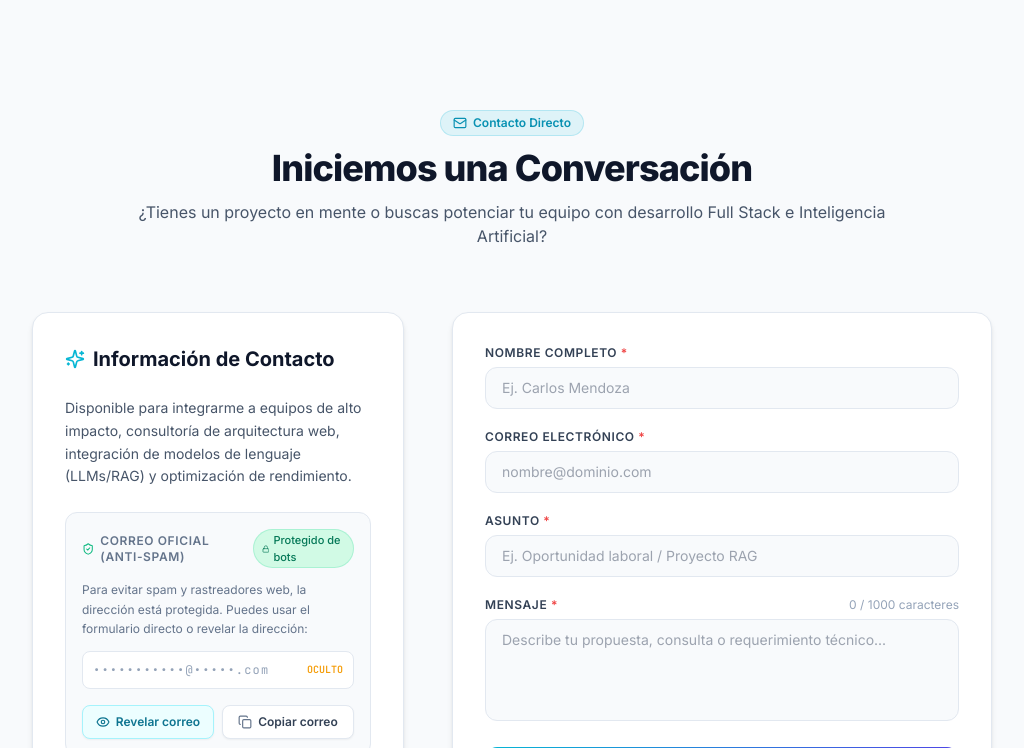
Test case: Functional Contact Component (Integration Flow) › successfully submits valid form, resets inputs, and displays dismissible success message
Type "Patricia Silva" into the field with test id "contact-name-input" at (722, 388), box [485, 367, 959, 409]
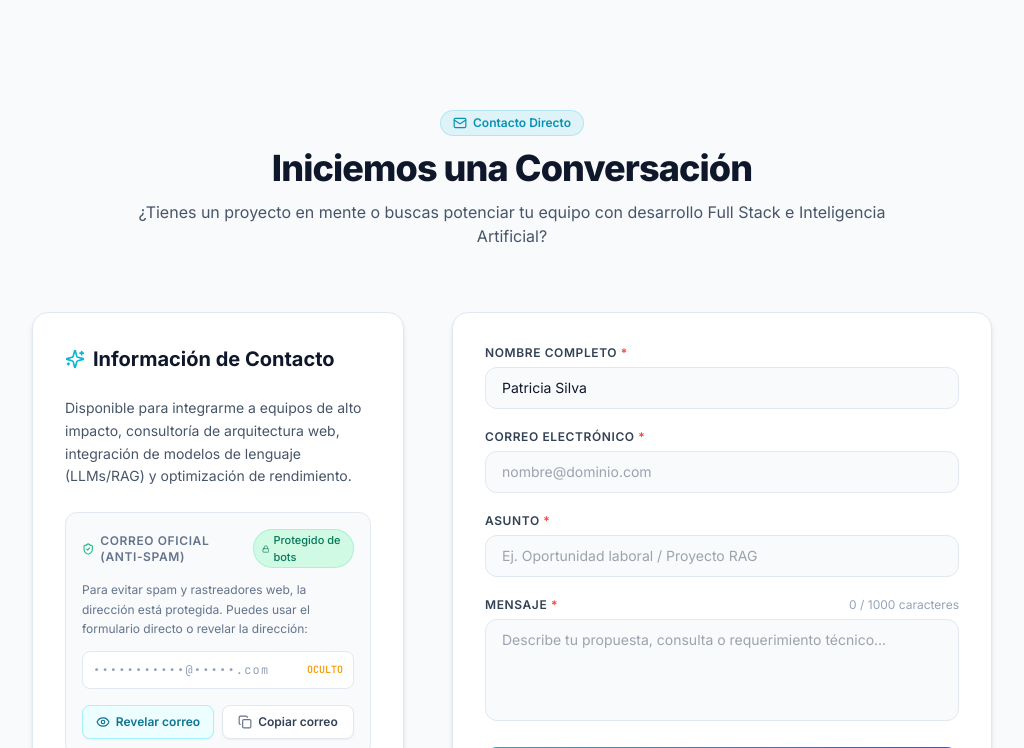
Type "patricia@empresa.com" into the field with test id "contact-email-input" at (722, 472), box [485, 451, 959, 493]
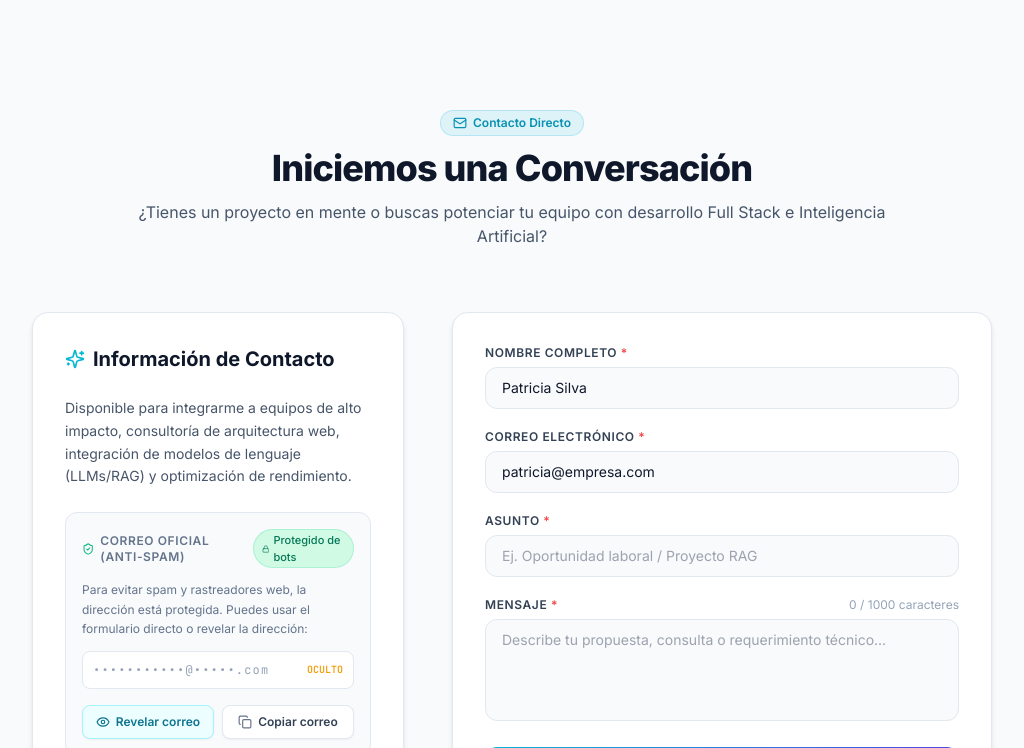
Type "Consultoría en MLOps & RAG" into the field with test id "contact-subject-input" at (722, 556), box [485, 535, 959, 577]
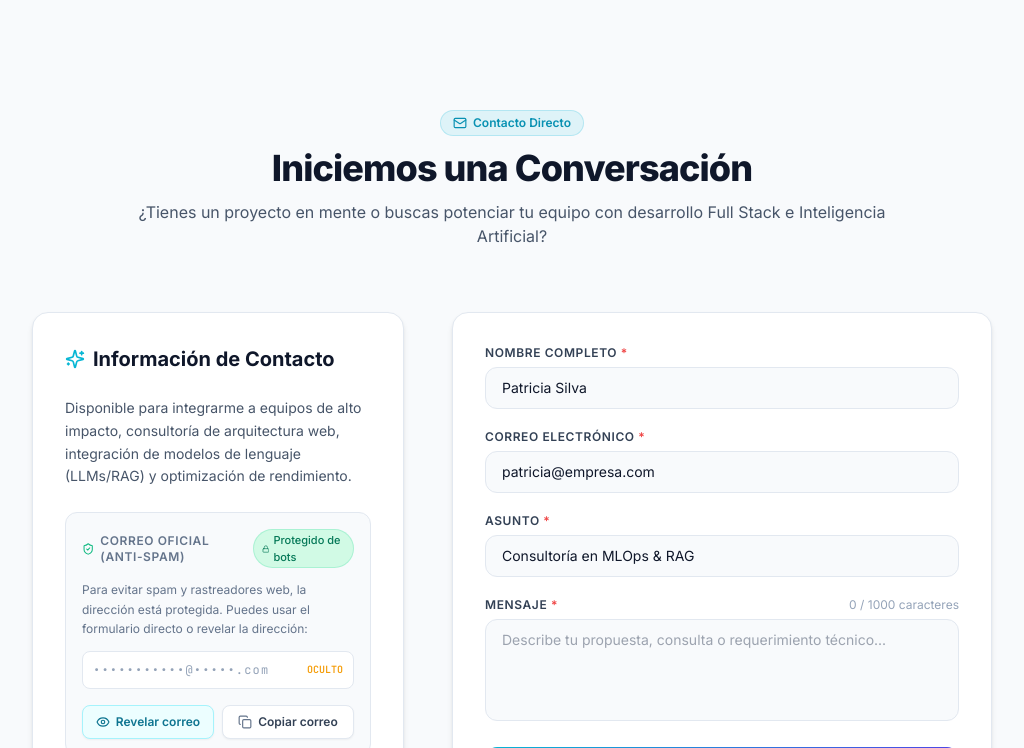
Type "Nos interesa agendar una reunión para discutir la implementación de un motor de búsqueda semántica." into the text box with test id "contact-message-input" at (722, 670), box [485, 619, 959, 721]
(page scrolled)
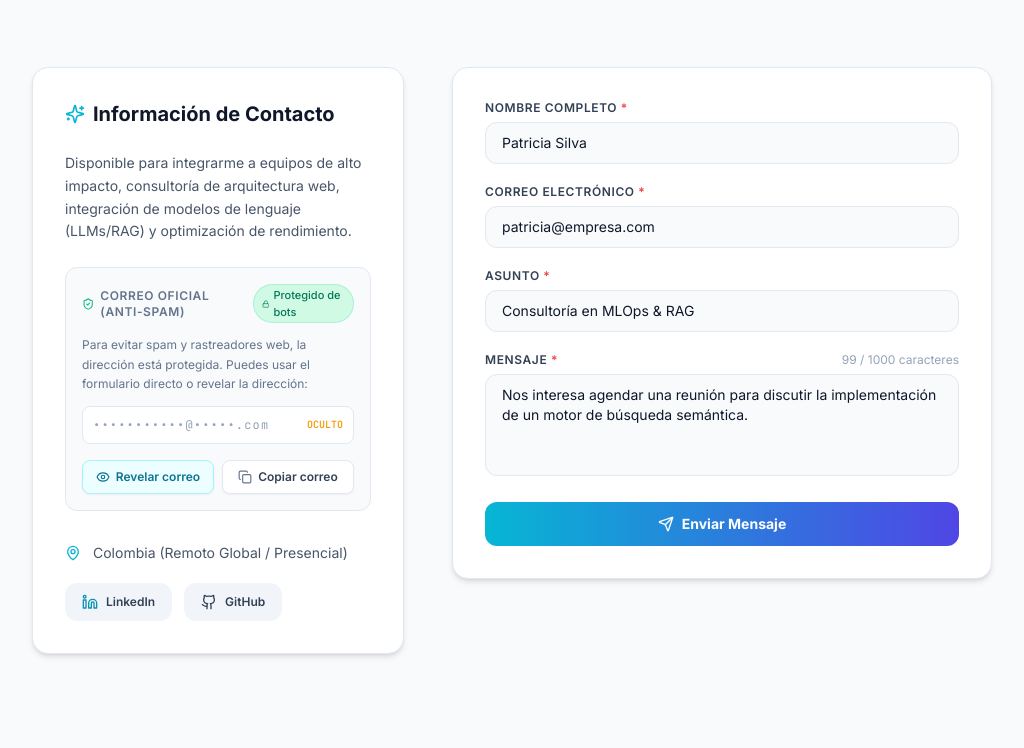
Click the button with test id "contact-submit-button" at (722, 524), box [485, 502, 959, 546]
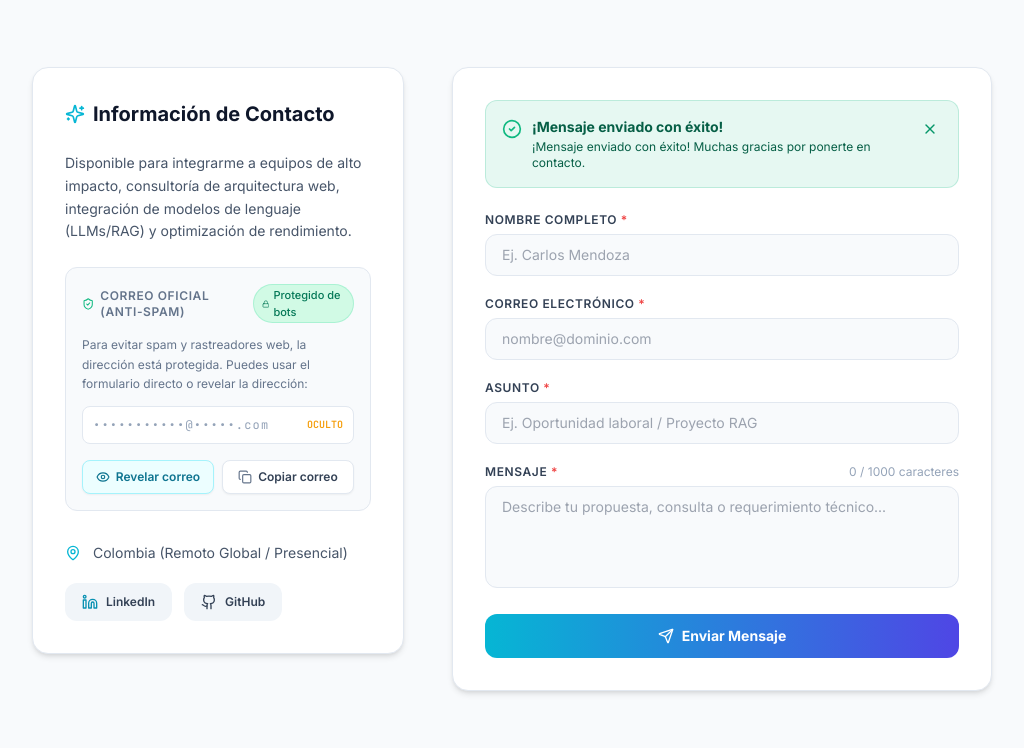
Check: the element with test id "contact-success-message" is shown, box [485, 100, 959, 188]
Check: the field with test id "contact-name-input" is empty, box [485, 234, 959, 276]
Check: the field with test id "contact-email-input" is empty, box [485, 318, 959, 360]
# Dismiss the success message
Click the button named "cerrar notificación" at (930, 129), box [918, 117, 942, 141]
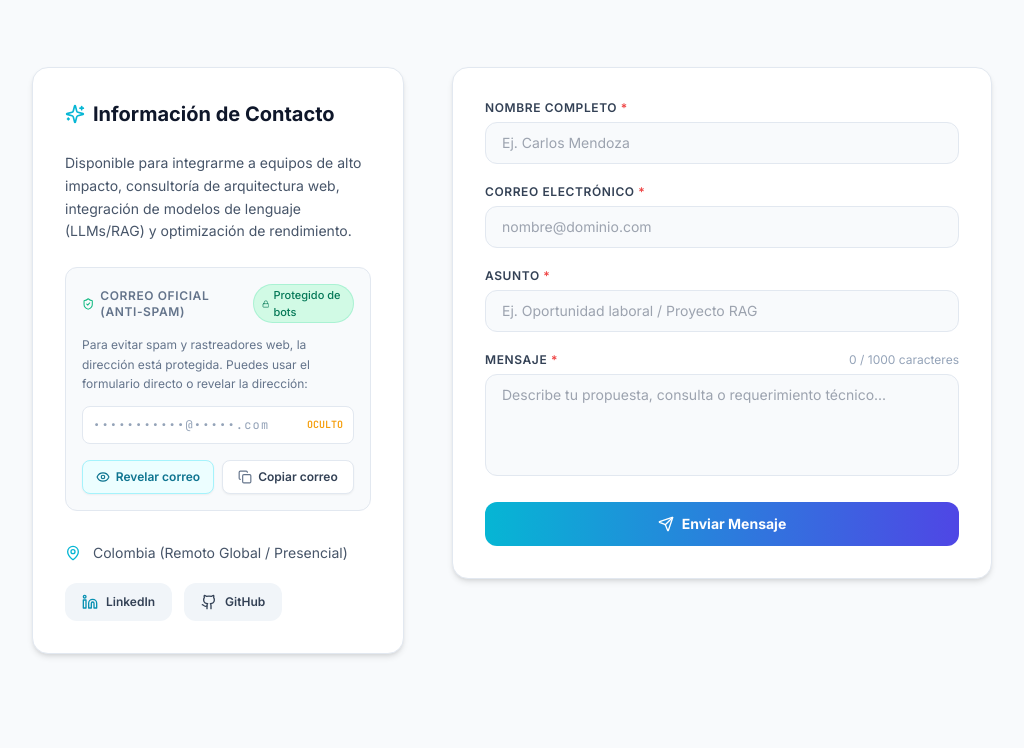
Check: the element with test id "contact-success-message" is gone
